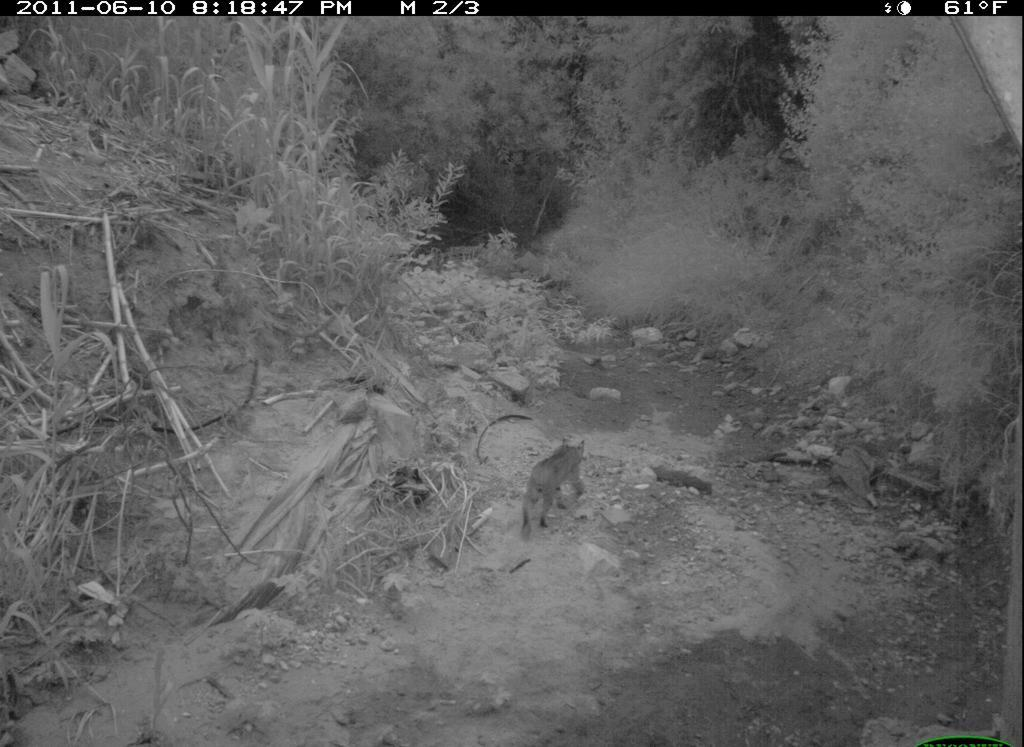bobcat: (518, 431, 593, 537)
